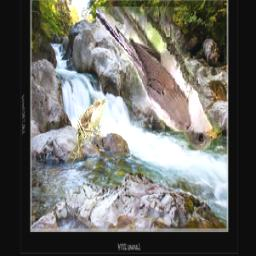Cuckoo: (96, 7, 222, 150), (65, 99, 105, 170)
